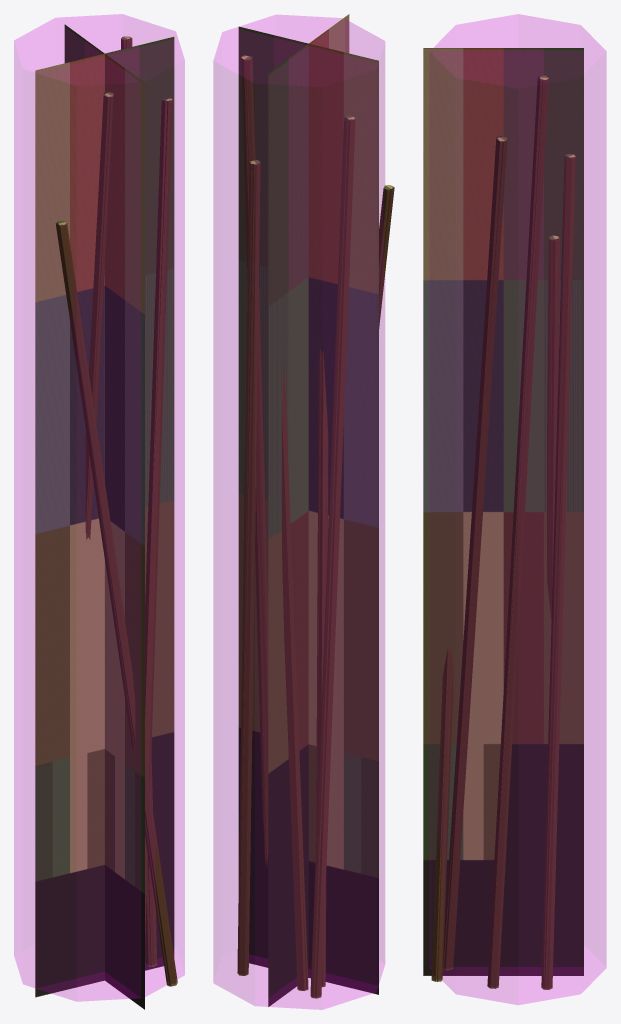
Rendered from ocotillo_med.dae.
3 renders of one model, left to right at view 1: azimuth 30°, elevation 25°; view 2: azimuth 150°, elevation 25°; view 3: azimuth 270°, elevation 25°, orthographic.
Visible parts, largest first — view 1: Colmesh_clump-1, ocotillo_med_a50, ocotillo_med_a800, ocotillo_med_a200; view 2: Colmesh_clump-1, ocotillo_med_a50, ocotillo_med_a800, ocotillo_med_a200; view 3: Colmesh_clump-1, ocotillo_med_a50, ocotillo_med_a800, ocotillo_med_a200.
Part boxes in pixels (box(x1,y1,x2,y2)): Colmesh_clump-1: box(14, 14, 184, 1001); ocotillo_med_a50: box(35, 24, 174, 1009); ocotillo_med_a800: box(56, 36, 177, 986); ocotillo_med_a200: box(55, 37, 170, 986); Colmesh_clump-1: box(213, 15, 384, 1009); ocotillo_med_a50: box(238, 14, 378, 1006); ocotillo_med_a800: box(237, 55, 394, 998); ocotillo_med_a200: box(239, 56, 393, 998); Colmesh_clump-1: box(430, 14, 606, 1004); ocotillo_med_a50: box(423, 48, 583, 975); ocotillo_med_a800: box(431, 75, 575, 989); ocotillo_med_a200: box(432, 76, 575, 989).
Size of the model in its own units: 0.56 by 0.5807 by 3.24.
2 materials, 1 textured.
